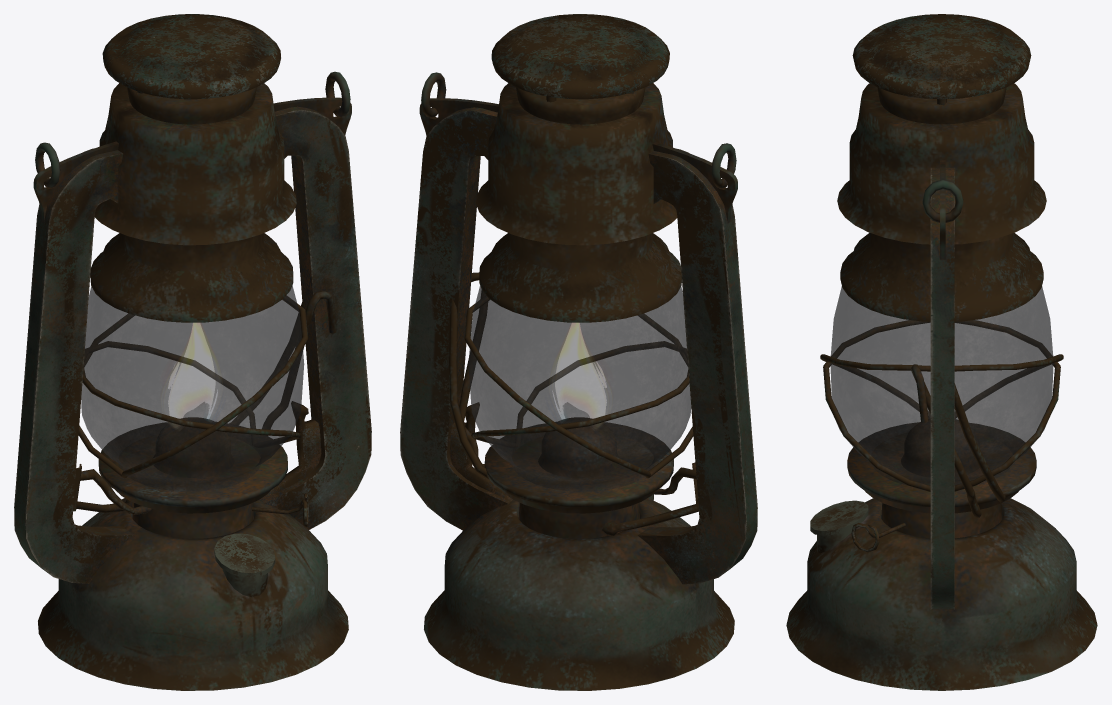
Rendered from old_lantern.glb.
3 views of the same model, side by side, from view 1: azimuth 30°, elevation 25°; view 2: azimuth 150°, elevation 25°; view 3: azimuth 270°, elevation 25° (orthographic).
Parts seen in each view (by area): view 1: Cylinder, Cylinder.003; view 2: Cylinder, Cylinder.003; view 3: Cylinder, Cylinder.003.
Part boxes in pixels (x1,y1,x2,y2): Cylinder: (14, 14, 371, 690); Cylinder.003: (81, 285, 304, 491); Cylinder: (400, 14, 757, 690); Cylinder.003: (468, 285, 691, 491); Cylinder: (786, 14, 1097, 690); Cylinder.003: (830, 286, 1053, 485).
Size of the model in its own units: 2.59 by 4.2 by 2.02.
Materials: 3 (3 with a texture image).
